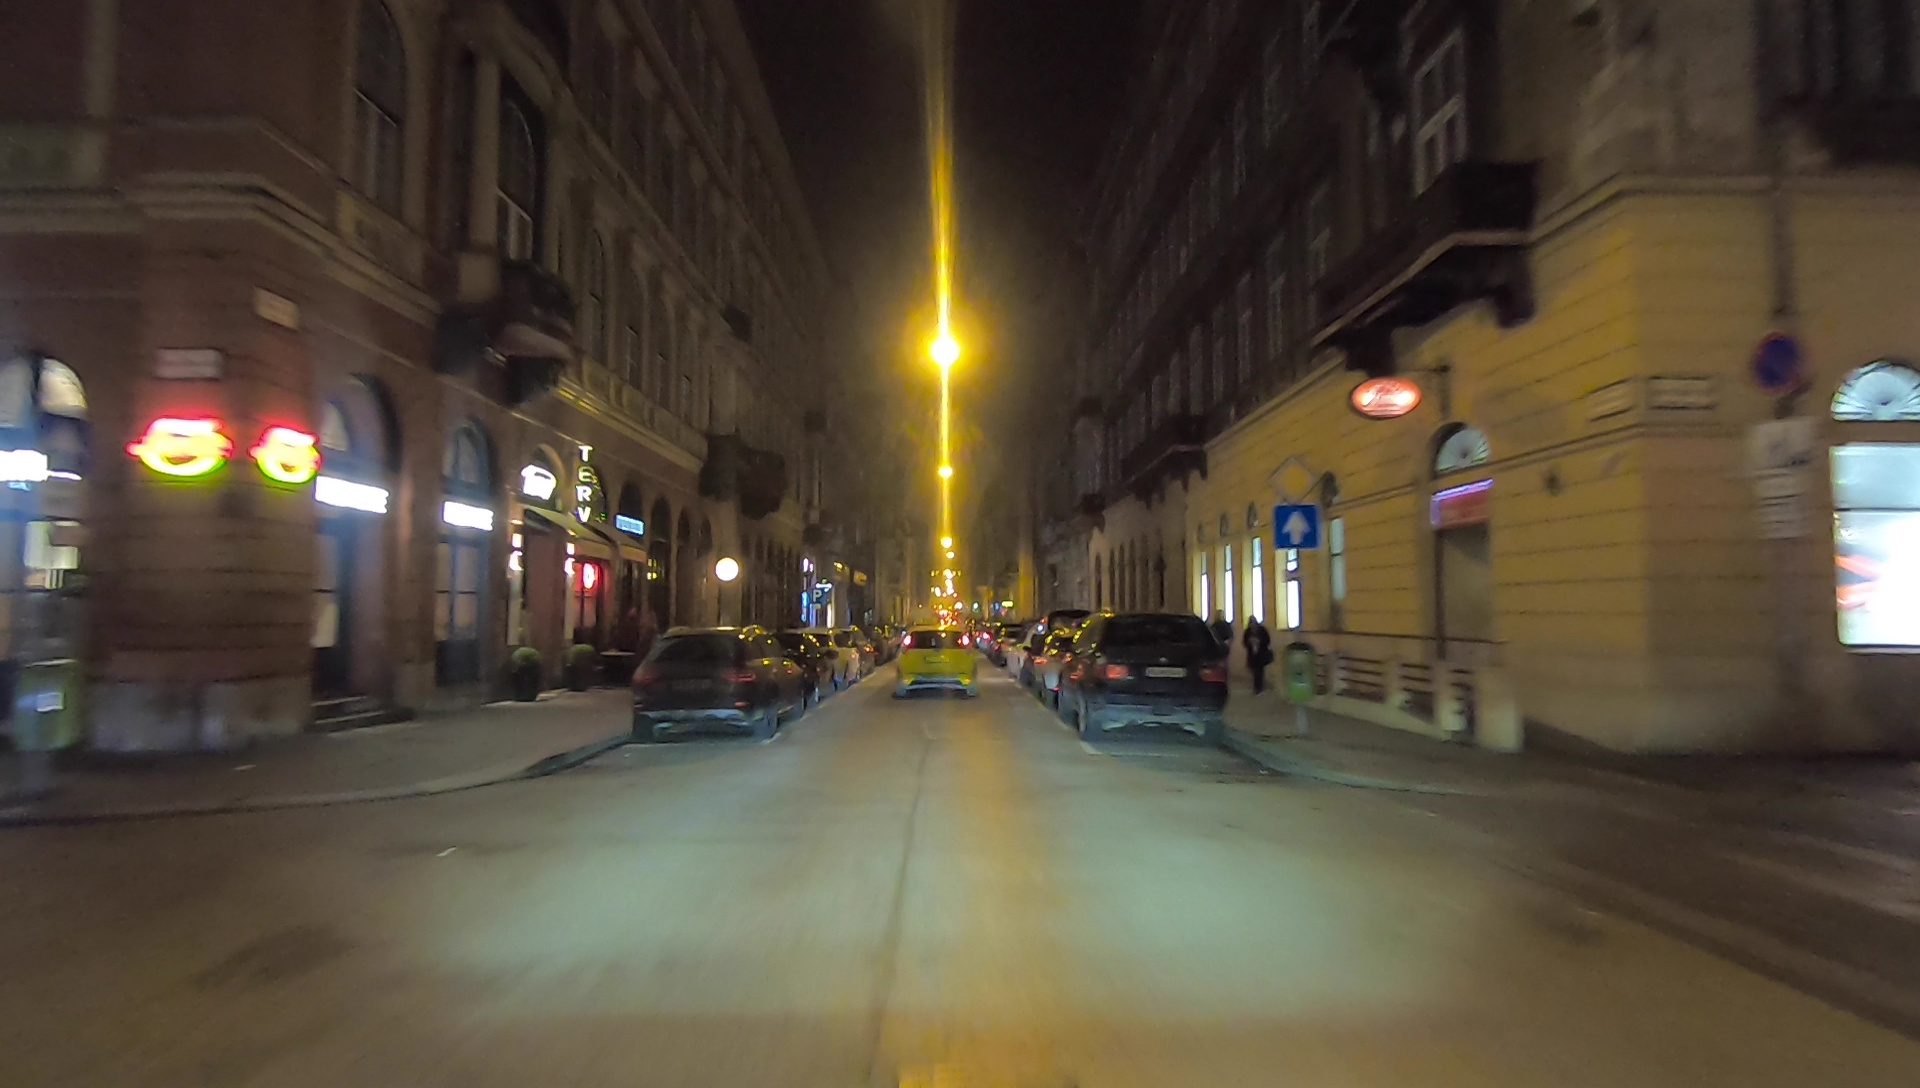person: (1245, 619, 1273, 697), (1199, 606, 1234, 663)
